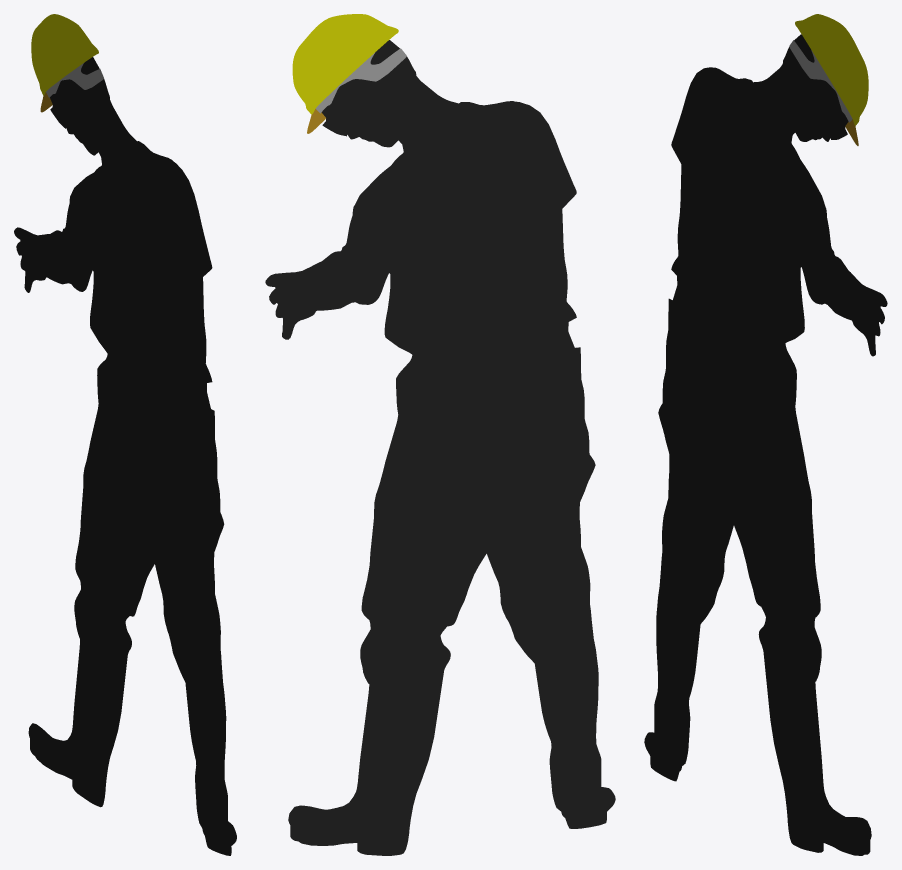
Rendered from Worker2.dae.
The picture shows the model from 3 angles, left to right: view 1: azimuth 90°, elevation 25°; view 2: azimuth 150°, elevation 25°; view 3: azimuth 270°, elevation 25°; orthographic projection. The views are drawn at different scales.
Parts seen in each view (by area): view 1: 组件_69 (×3); view 2: 组件_69 (×3); view 3: 组件_69 (×3).
Part boxes in pixels (x1,y1,x2,y2): 组件_69 (×3): [14, 14, 236, 855]; 组件_69 (×3): [265, 14, 615, 855]; 组件_69 (×3): [644, 14, 887, 855].
Size of the model in its own units: 17.62 by 16.26 by 62.31.
